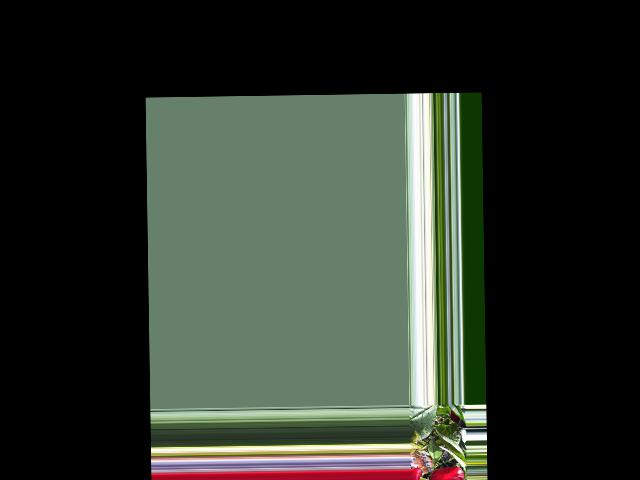bell_pepper: (409, 465, 424, 480)
